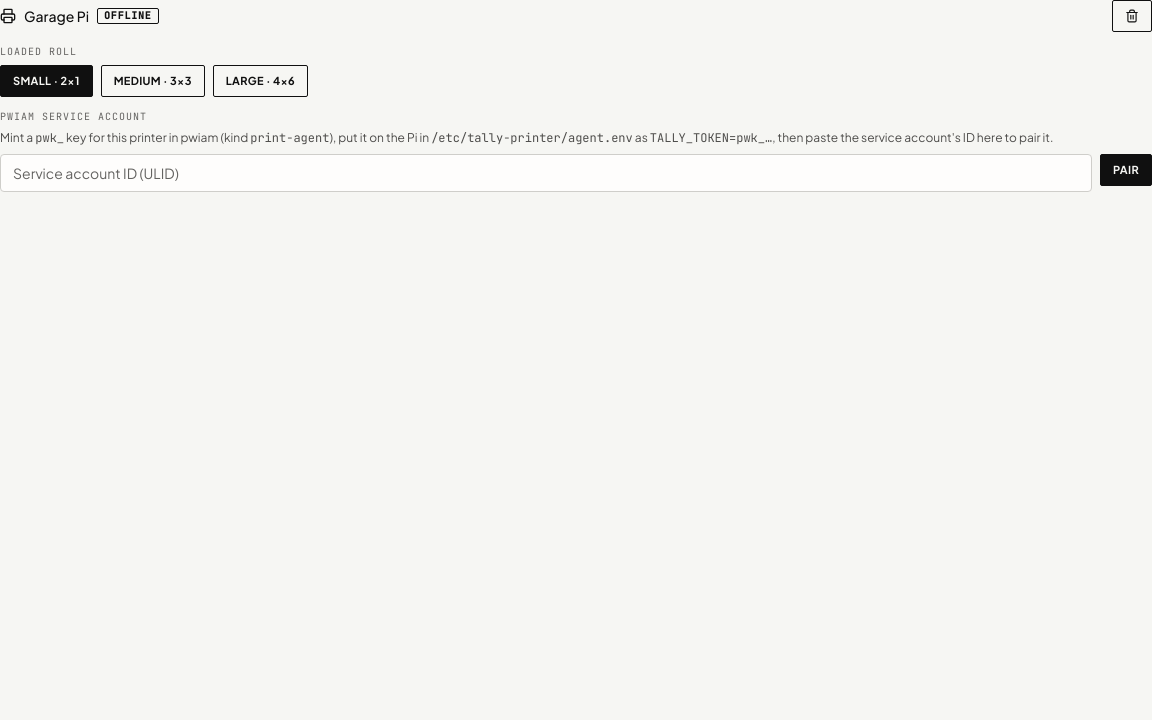
Scenario: cancelling the remove confirm is a no-op
The image size is (1152, 720).
Click the button named "Remove Garage Pi" at coordinates (1132, 16), box left=1112, top=0, right=1151, bottom=32
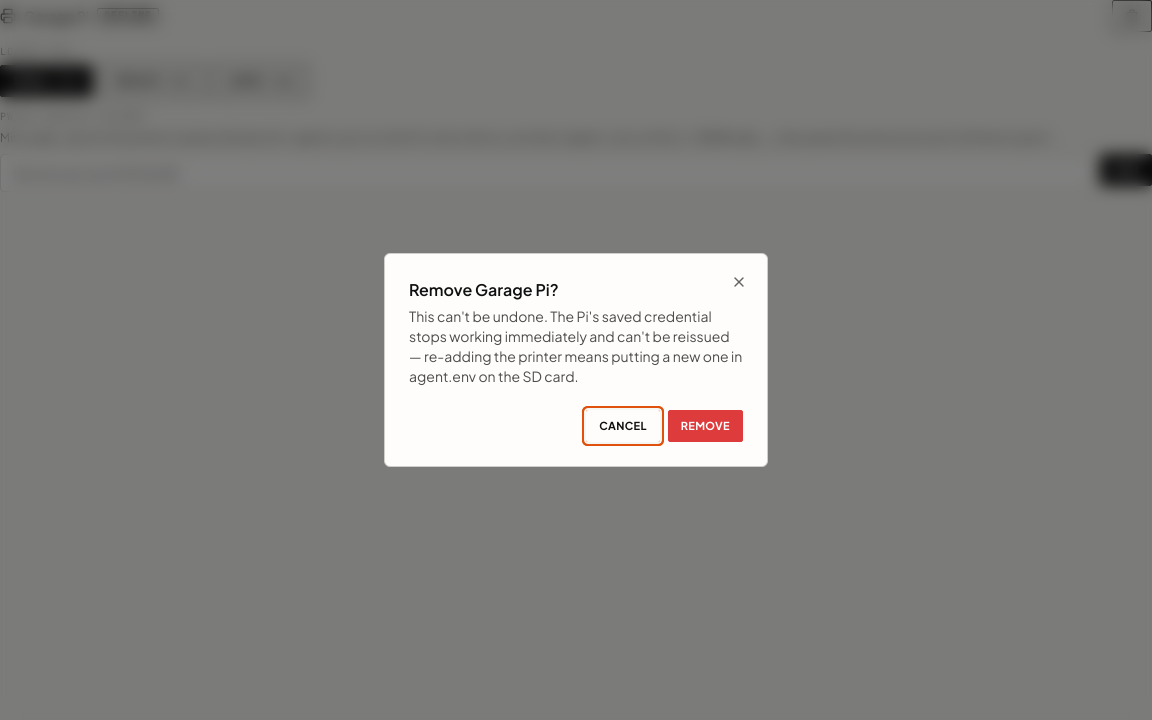
Click the button "Cancel" at coordinates (623, 426), box left=586, top=410, right=660, bottom=442
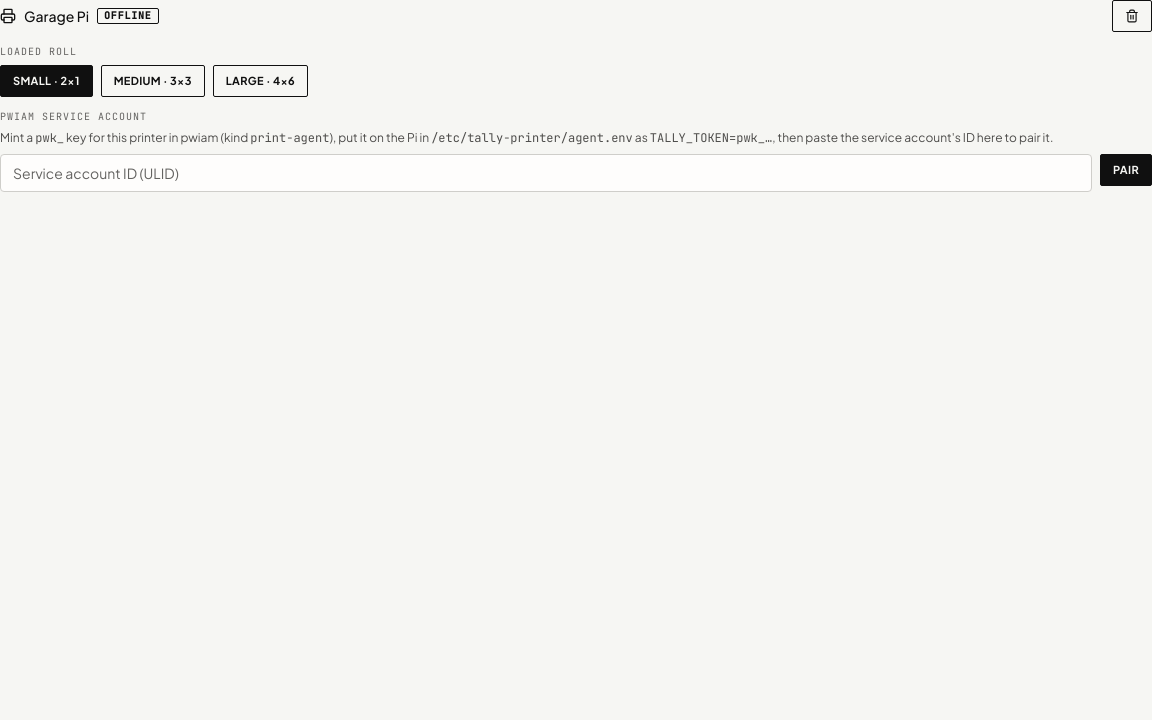
Expected: the dialog is gone
